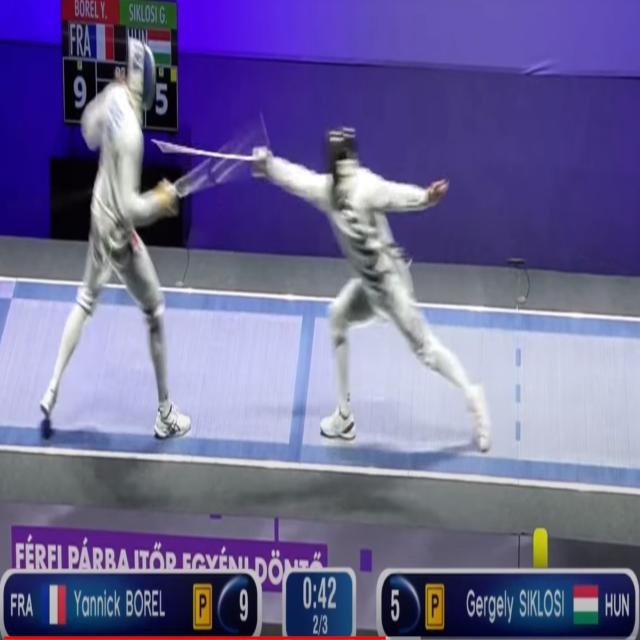fencer: (244, 66, 498, 461), (40, 18, 194, 453)
overlayLeft: (2, 564, 217, 635)
overlayRight: (423, 571, 639, 640)
scoreLeft: (217, 577, 253, 632)
scoreRight: (384, 580, 422, 629)
